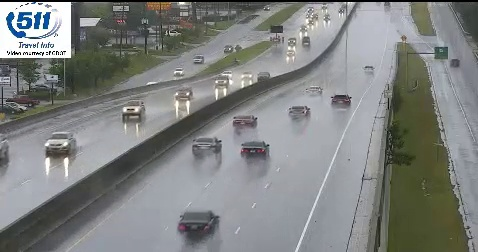car: (178, 210, 218, 236), (192, 137, 221, 155), (241, 142, 269, 158), (232, 114, 257, 130), (288, 106, 311, 120), (332, 93, 351, 108), (305, 86, 323, 96)
